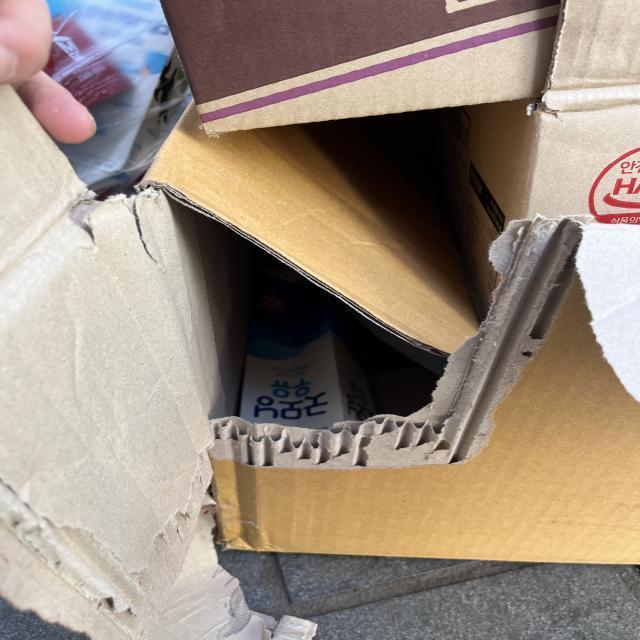hole: (136, 206, 536, 459)
